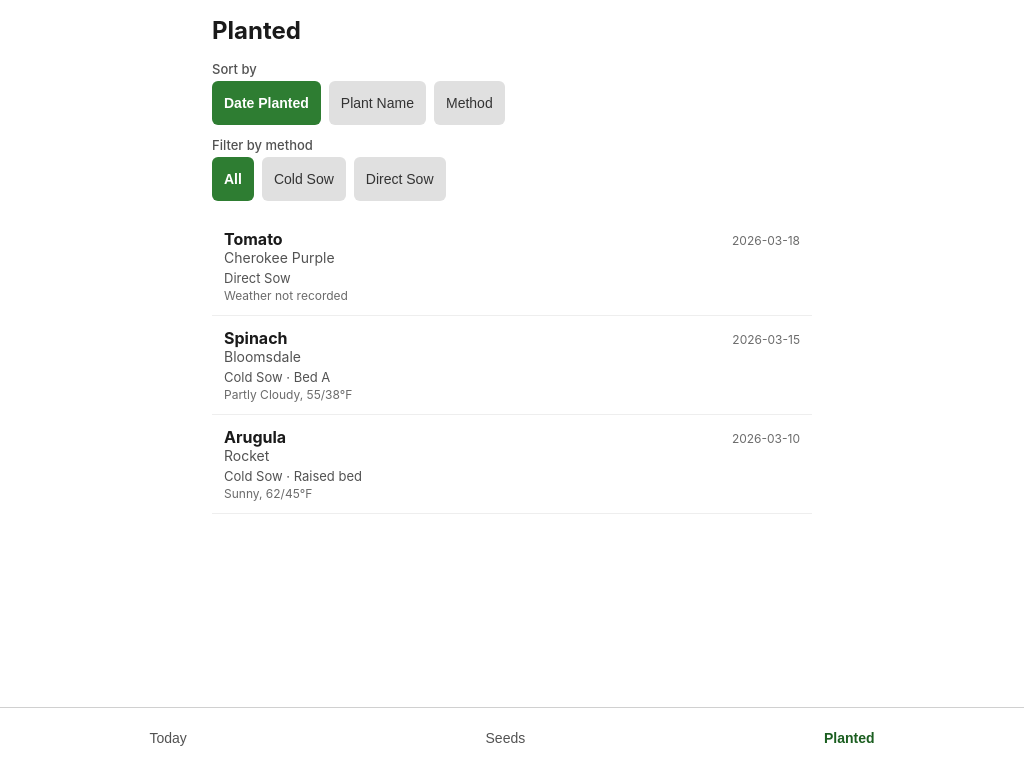
Test: Planted page › filters by direct sow
Click the button "Direct Sow" at [400, 179], box [354, 157, 446, 201]
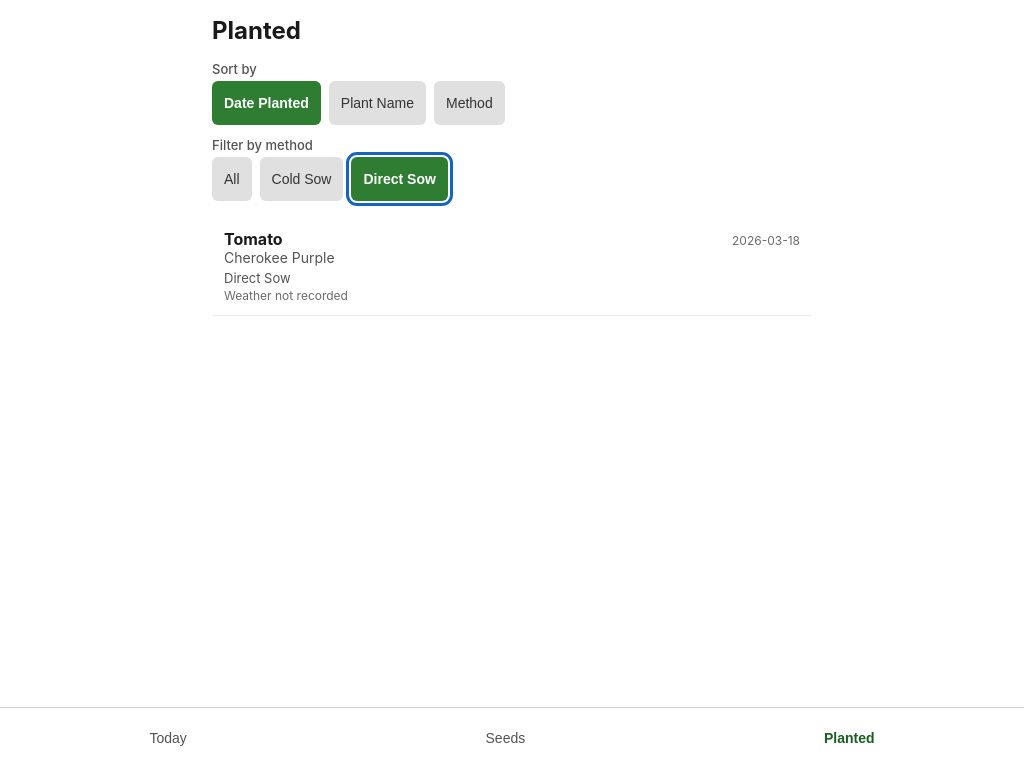
Expected: the list item shows "Tomato", [224, 229, 283, 249]
Expected: the number of list items is 1, [212, 217, 812, 316]
